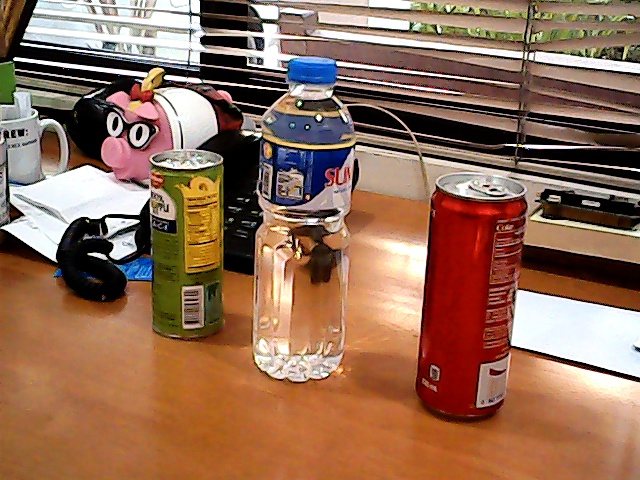Cola: (396, 142, 549, 442)
Pine Juice: (126, 140, 242, 350)
Summit Water: (240, 42, 362, 391)
